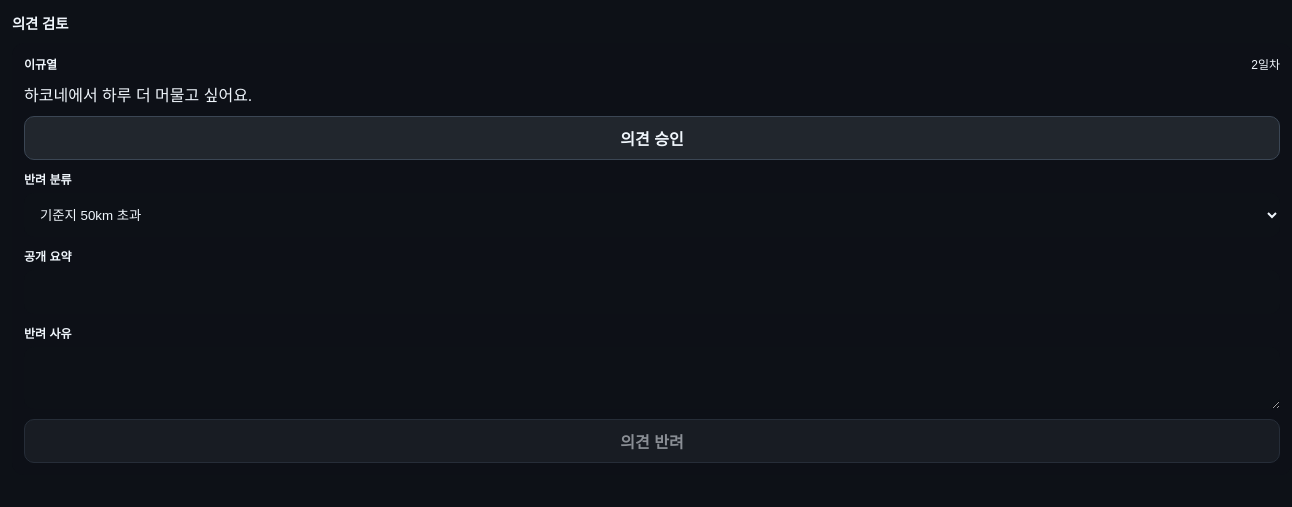
AdminReviewControls › approves a pending opinion through the existing admin API
Click the button "의견 승인": x=652, y=138 [24,116,1280,160]
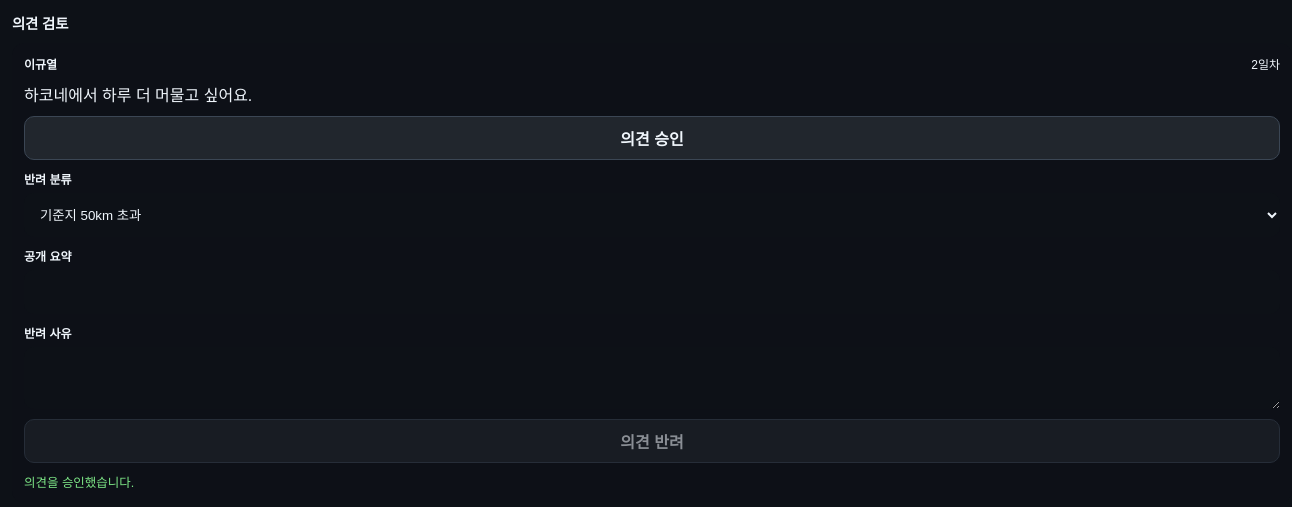
Result: the message shows "의견을 승인했습니다" at [24,476,134,490]
